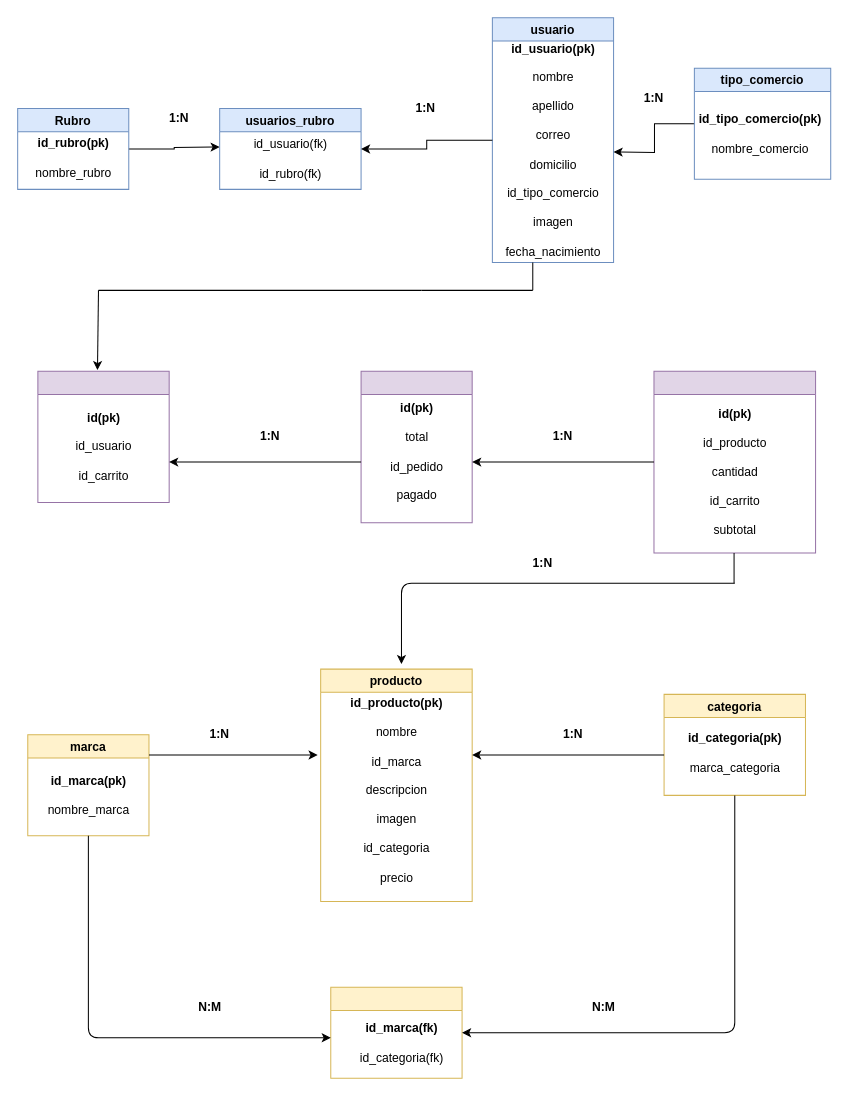
This 848x1096 diagram has some shape labels left out. Here are the shapes that lost their labels. From the top down, the box of each, then its label:
(37, 370, 169, 502): pedido
(360, 370, 472, 523): carrito
(653, 370, 816, 553): relacion_producto_carrito
(330, 986, 462, 1078): marcaCategoria
